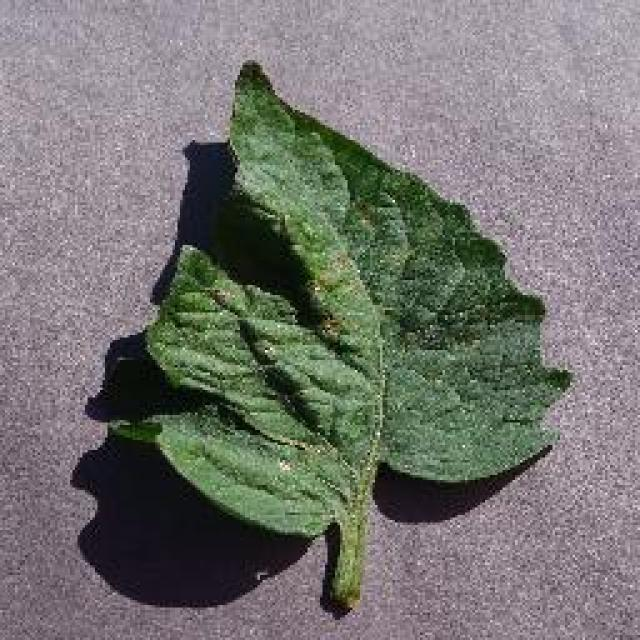Tomato___Target_Spot: (112, 60, 570, 608)
